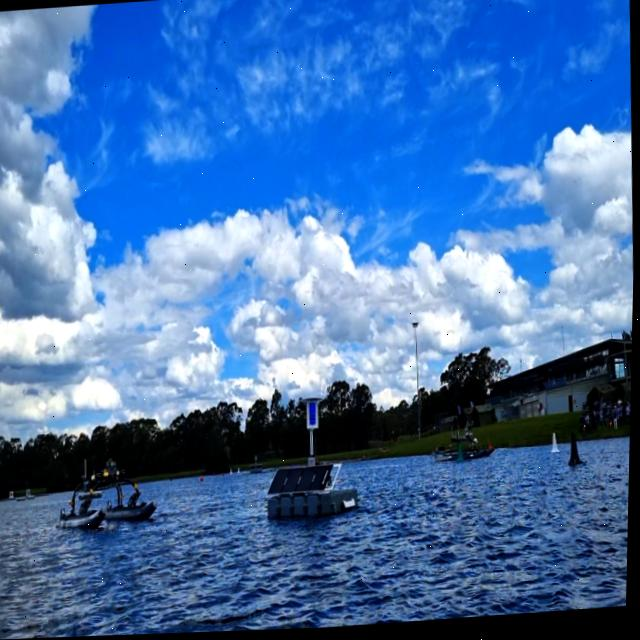led: (308, 403, 319, 429)
